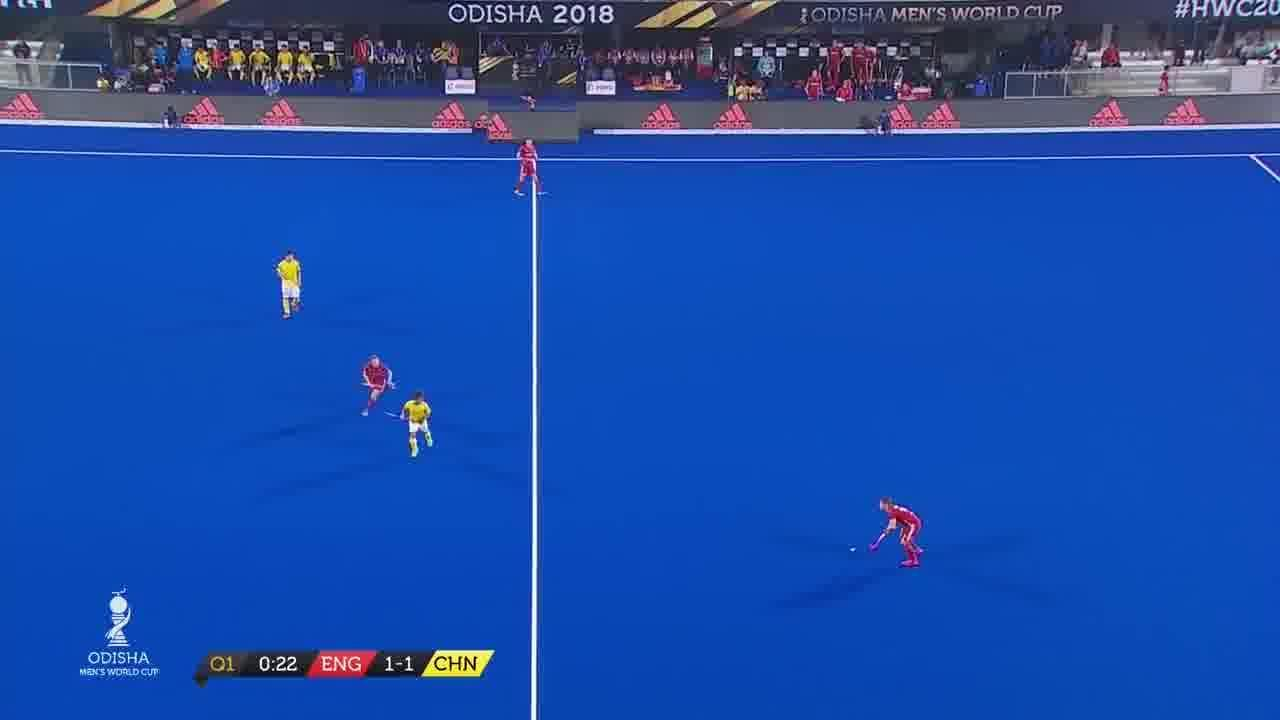ball: (848, 538, 862, 560)
